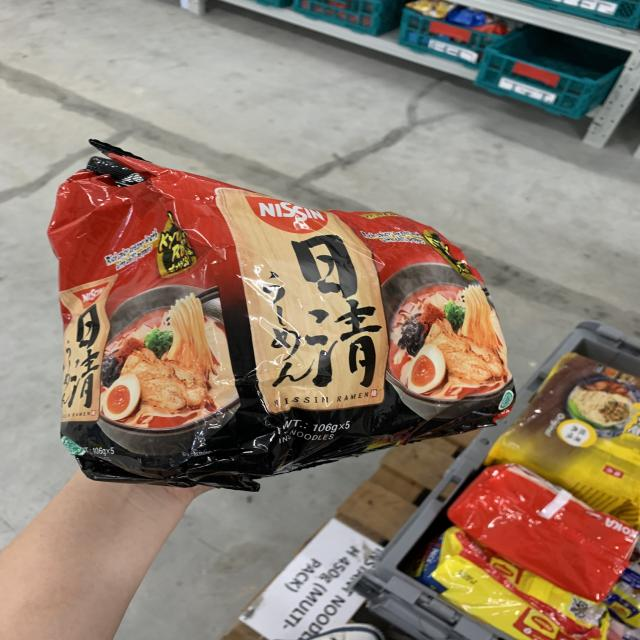object_name: (65, 168, 521, 444)
